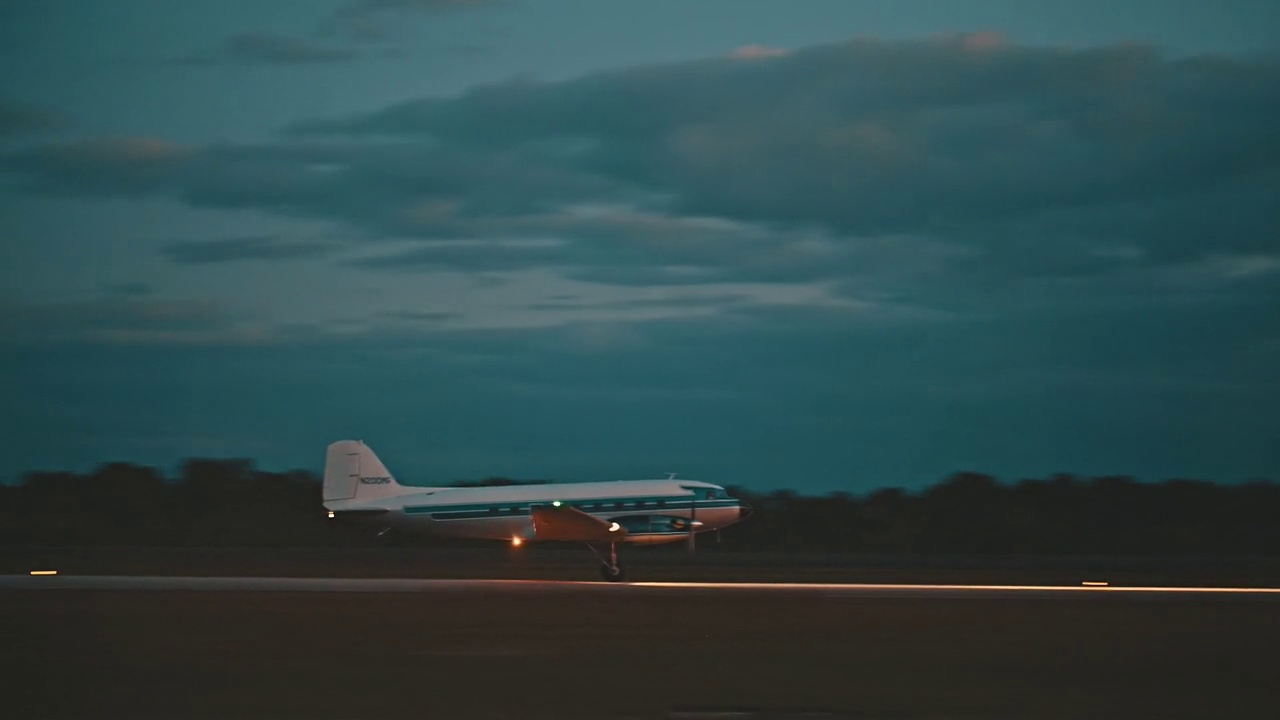plane: (320, 440, 755, 581)
